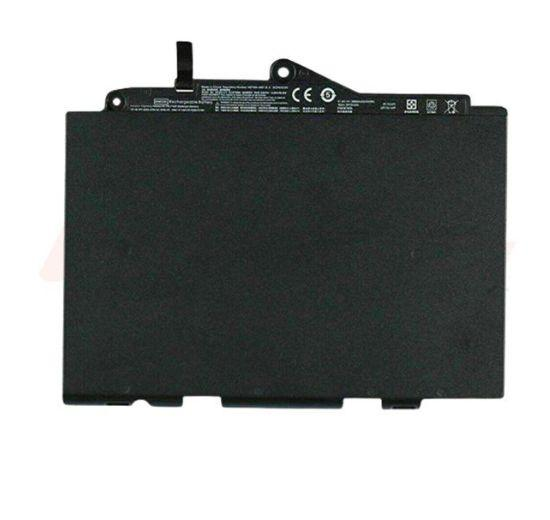battery: (61, 70, 512, 425)
